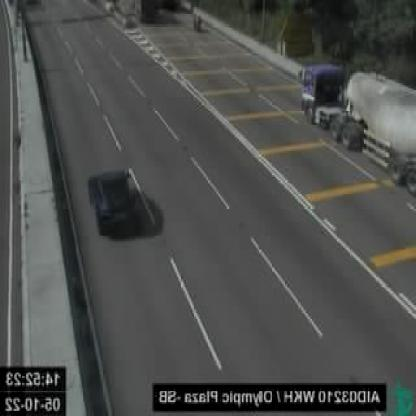Car: (90, 170, 144, 237)
Truck: (299, 64, 416, 193)
